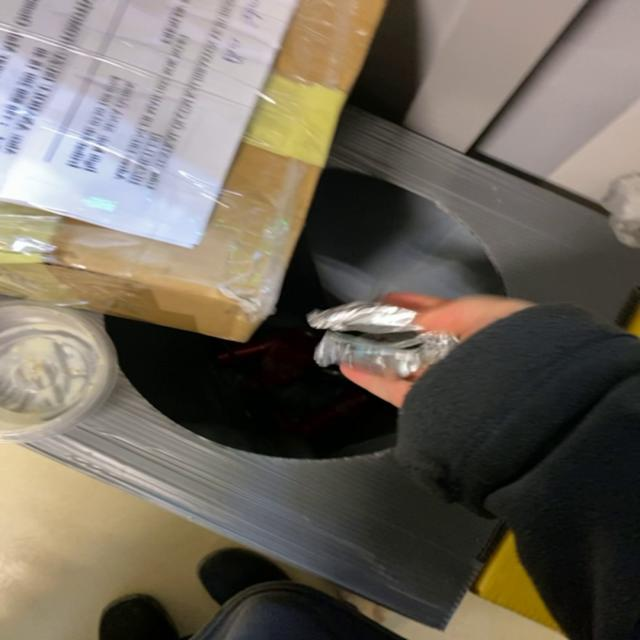bin: (27, 106, 639, 629)
metal: (308, 301, 461, 378)
